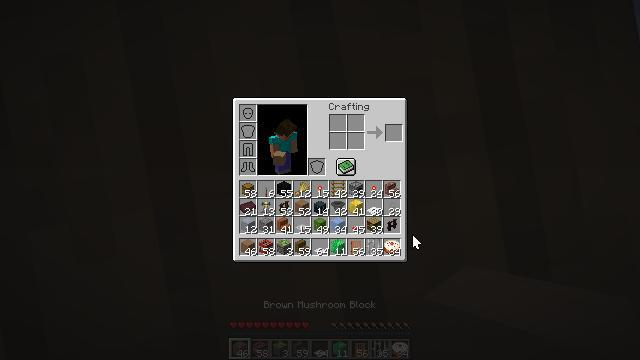cursor: (412, 234, 422, 250)
